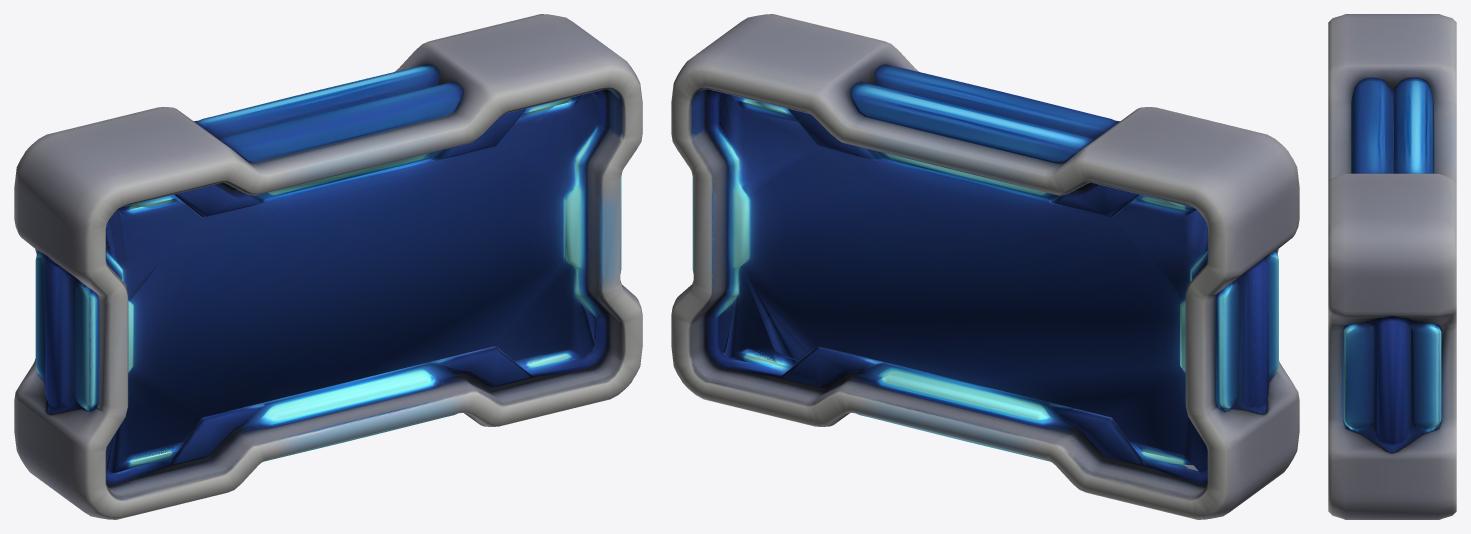
3 renders of one model, left to right at view 1: azimuth 30°, elevation 25°; view 2: azimuth 150°, elevation 25°; view 3: azimuth 270°, elevation 25°, orthographic. The views are drawn at different scales.
Visible parts, largest first — view 1: tripo_node_8097cfa2-2e28-49c1-bf22-92bdd0f8de6d; view 2: tripo_node_8097cfa2-2e28-49c1-bf22-92bdd0f8de6d; view 3: tripo_node_8097cfa2-2e28-49c1-bf22-92bdd0f8de6d.
Boxes of the visible parts, x1,y1,x2,y2 form: tripo_node_8097cfa2-2e28-49c1-bf22-92bdd0f8de6d: [14, 14, 642, 519]; tripo_node_8097cfa2-2e28-49c1-bf22-92bdd0f8de6d: [671, 14, 1299, 519]; tripo_node_8097cfa2-2e28-49c1-bf22-92bdd0f8de6d: [1328, 14, 1456, 519].
Size of the model in its own units: 0.998 by 0.5801 by 0.2285.
1 material, 1 textured.
